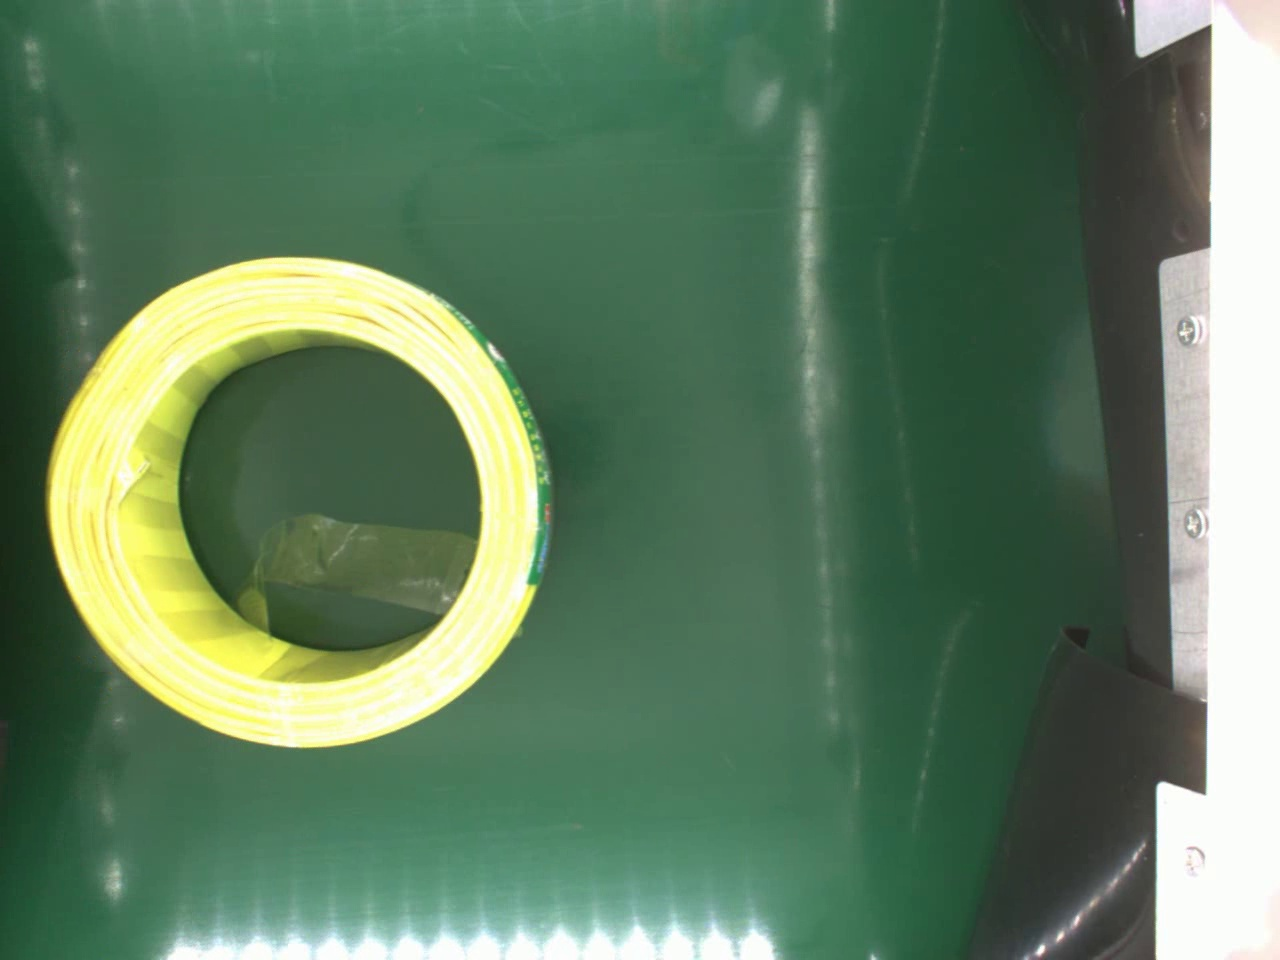yellow: (44, 244, 560, 760)
